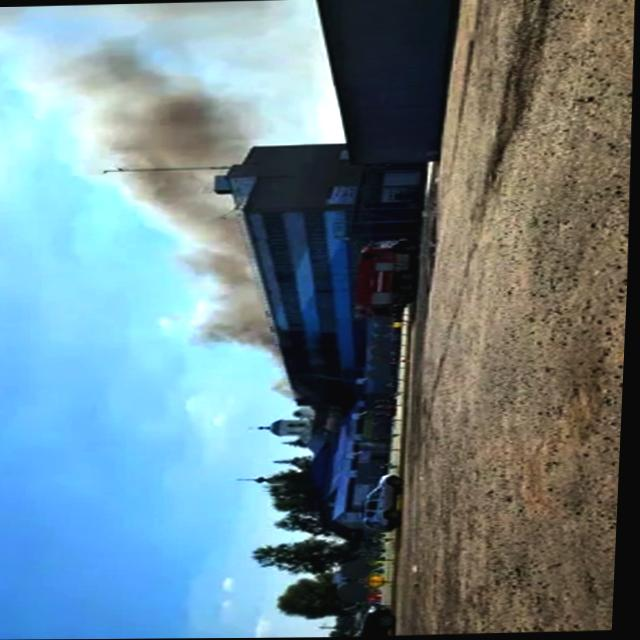no_helmet: (18, 47, 288, 351)
